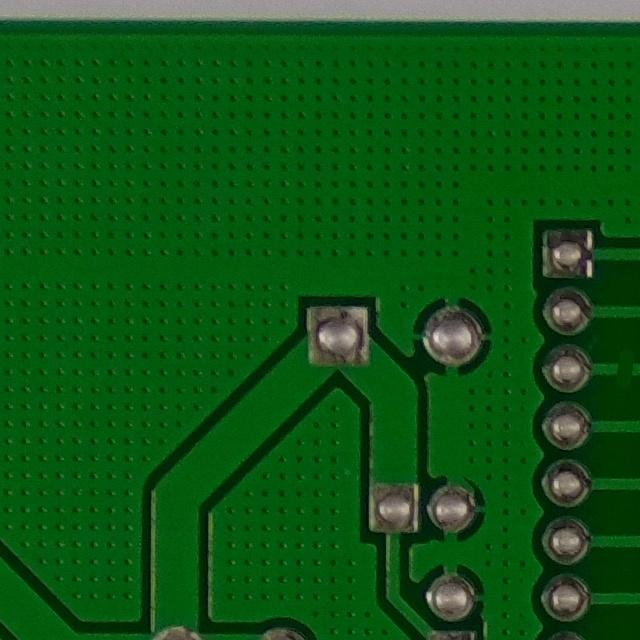open_circuit: (608, 350, 640, 390)
